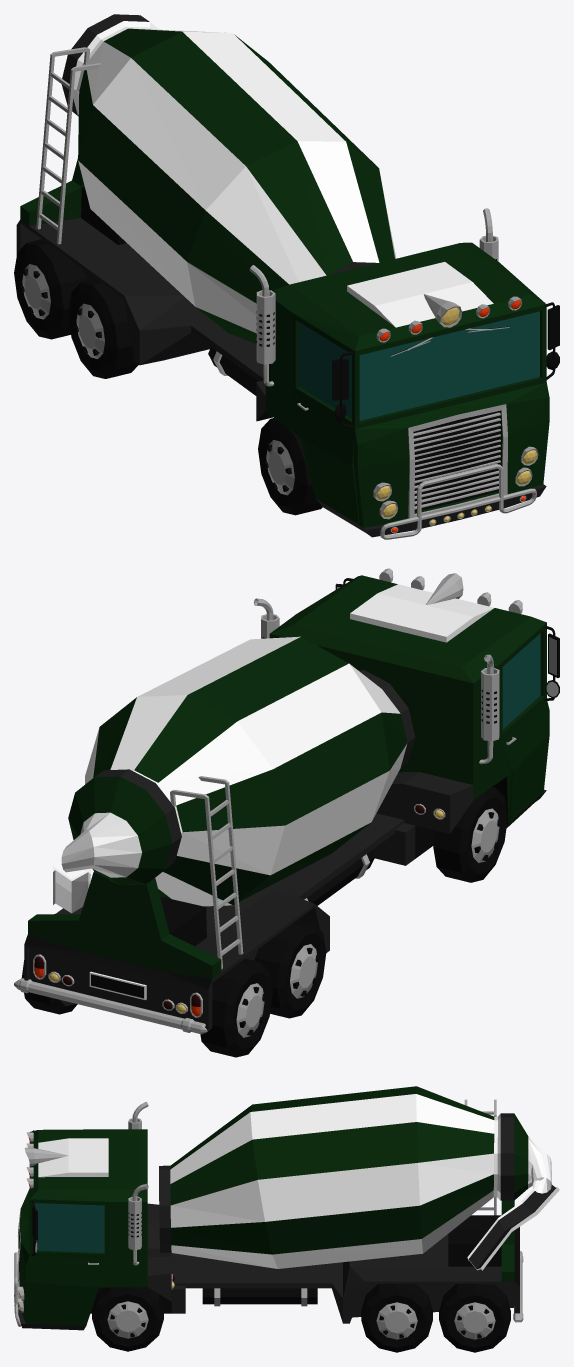
Rendered from ConcreteMixerTruck.FBX.
The picture shows the model from 3 angles, top to bottom: view 1: azimuth 30°, elevation 25°; view 2: azimuth 150°, elevation 25°; view 3: azimuth 270°, elevation 25°; orthographic projection. The views are drawn at different scales.
Visible parts, largest first — view 1: ConcreteMixerTruck, mixer, Interieur, wheel_b1_r, wheel_b2_r, wheel_f_r, grill, ladder, exhausts, bumper_f, lights, headLights; view 2: ConcreteMixerTruck, mixer, wheel_b2_r, wheel_b1_r, wheel_f_r, ladder, bumper_b, exhausts, lights, wheel_b2_l; view 3: mixer, ConcreteMixerTruck, wheel_b1_l, wheel_b2_l, wheel_f_l, Interieur, exhausts, lights.
Part boxes in pixels (box(x1,y1,x2,y2)): ConcreteMixerTruck: box(16, 158, 559, 537); mixer: box(61, 14, 396, 343); Interieur: box(299, 312, 539, 420); wheel_b1_r: box(68, 278, 138, 378); wheel_b2_r: box(14, 239, 86, 339); wheel_f_r: box(258, 418, 322, 515); grill: box(413, 412, 500, 509); ladder: box(36, 47, 100, 244); exhausts: box(249, 208, 498, 386); bumper_f: box(380, 464, 536, 539); lights: box(373, 294, 538, 533); headLights: box(376, 307, 536, 524); ConcreteMixerTruck: box(24, 575, 559, 1030); mixer: box(53, 636, 415, 913); wheel_b2_r: box(200, 958, 272, 1057); wheel_b1_r: box(254, 919, 326, 1018); wheel_f_r: box(433, 787, 507, 882); ladder: box(170, 776, 243, 969); bumper_b: box(14, 978, 208, 1034); exhausts: box(254, 598, 499, 764); lights: box(33, 568, 522, 1017); wheel_b2_l: box(21, 914, 77, 1014); mixer: box(159, 1086, 559, 1270); ConcreteMixerTruck: box(17, 1129, 519, 1330); wheel_b1_l: box(361, 1284, 432, 1352); wheel_b2_l: box(439, 1284, 510, 1352); wheel_f_l: box(92, 1287, 163, 1351); Interieur: box(35, 1203, 104, 1251); exhausts: box(128, 1101, 148, 1265); lights: box(17, 1132, 172, 1312).
Bounding box in the file's own units: 34.19 × 42.02 × 93.29.
